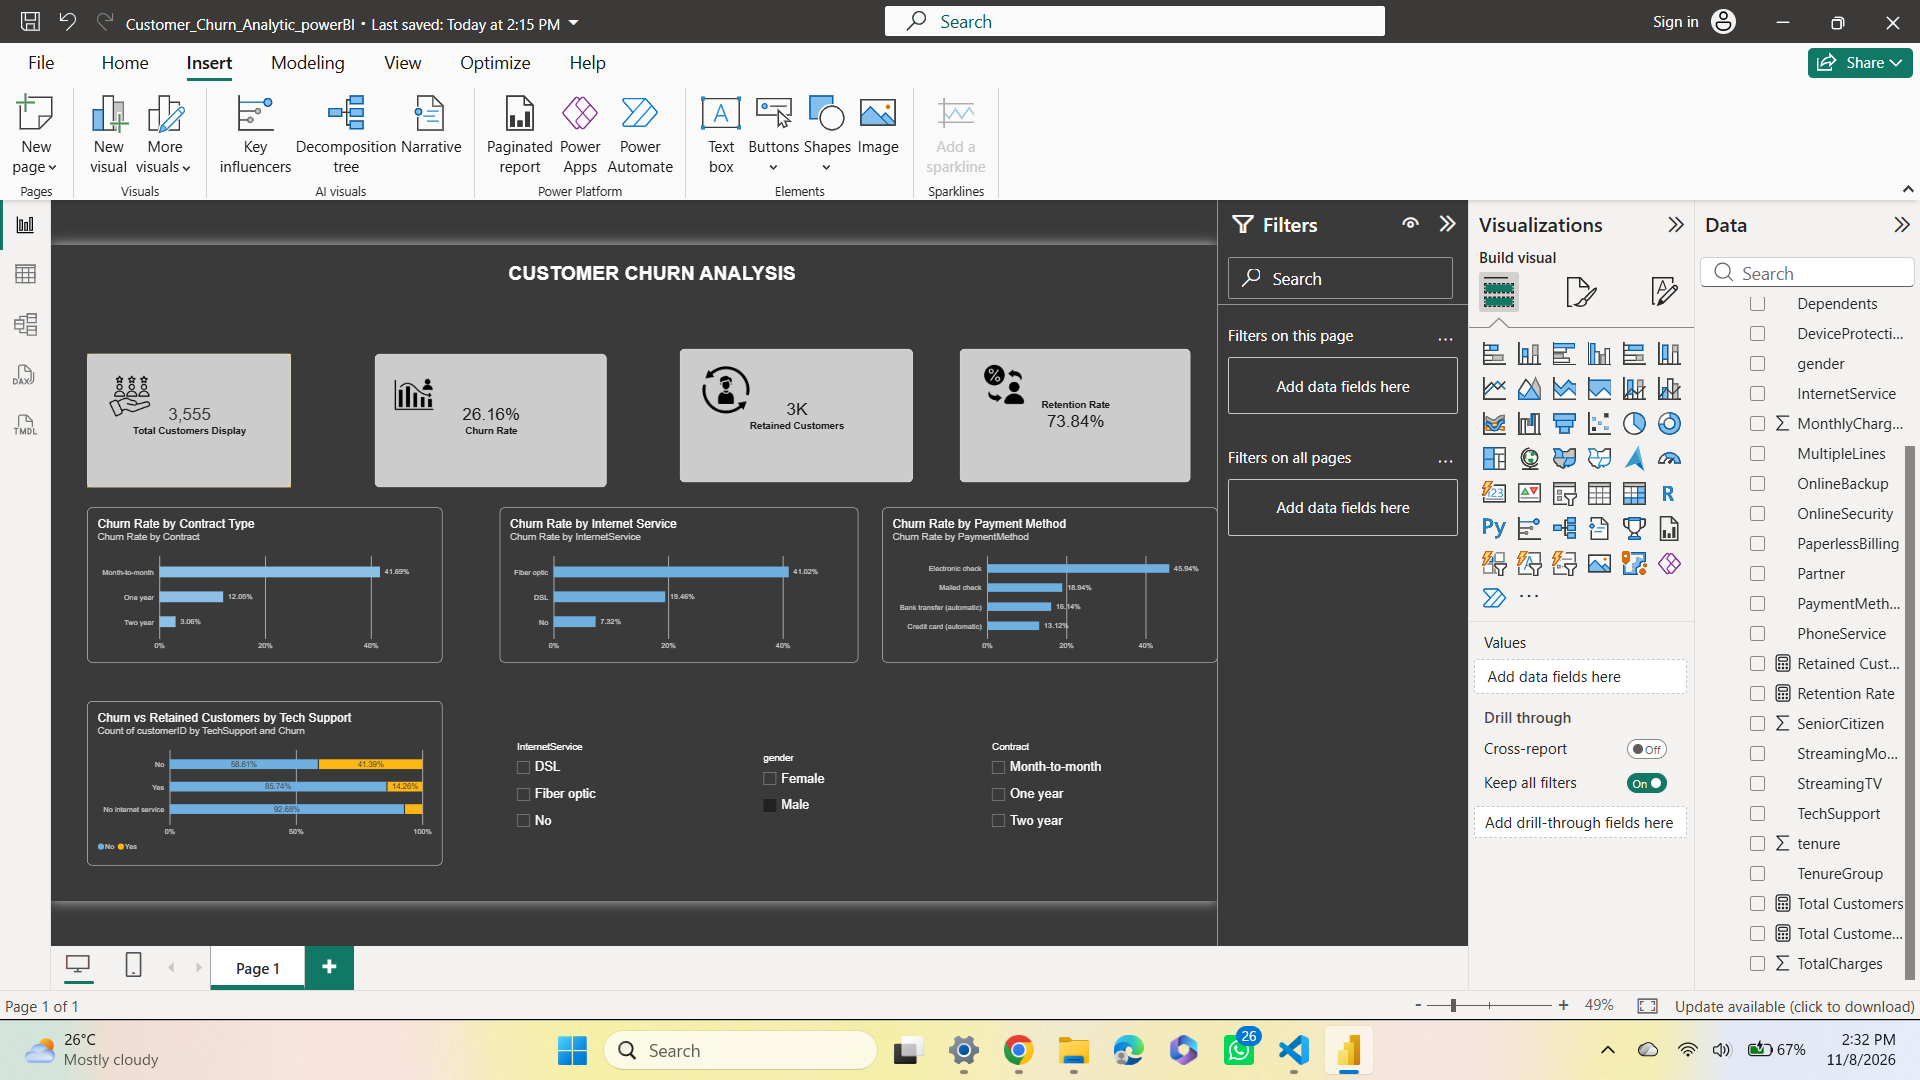

The page's visual inventory and layout, read from the dashboard file:
{"tool":"powerbi","page":{"name":"Page 1","canvas":[1920,1080],"ordinal":0},"visuals":[{"type":"cardVisual","fields":{"Data":["customer_churn_cleaned.Total Customers Display"]},"box":[59.7,179.1,335.5,220.2],"z":0},{"type":"cardVisual","fields":{"Data":["customer_churn_cleaned.Churn Rate"]},"box":[533.1,179.1,382.8,220.2],"z":1000},{"type":"image","box":[533.1,214.1,129.7,63.8],"z":2000},{"type":"cardVisual","fields":{"Data":["customer_churn_cleaned.Retained Customers"]},"box":[1035.3,170.8,384.9,220.2],"z":3000},{"type":"cardVisual","fields":{"Data":["customer_churn_cleaned.Retention Rate"]},"box":[1496.4,170.8,380.8,220.2],"z":4000},{"type":"image","box":[1510.8,195.5,117.3,67.9],"z":5000},{"type":"clusteredBarChart","title":"Churn Rate by Contract Type","fields":{"Category":["customer_churn_cleaned.Contract"],"Y":["customer_churn_cleaned.Churn Rate"]},"box":[59.7,432.2,584.6,255.2],"z":6000},{"type":"clusteredBarChart","title":"Churn Rate by Internet Service","fields":{"Category":["customer_churn_cleaned.InternetService"],"Y":["customer_churn_cleaned.Churn Rate"]},"box":[738.9,432.2,590.7,255.2],"z":7000},{"type":"clusteredBarChart","title":"Churn Rate by Payment Method","fields":{"Category":["customer_churn_cleaned.PaymentMethod"],"Y":["customer_churn_cleaned.Churn Rate"]},"box":[1368.8,432.2,551.6,255.2],"z":8000},{"type":"hundredPercentStackedBarChart","title":"Churn vs Retained Customers by Tech Support","fields":{"Category":["customer_churn_cleaned.TechSupport"],"Series":["customer_churn_cleaned.Churn"],"Y":["CountNonNull(customer_churn_cleaned.customerID)"]},"box":[59.7,751.3,585,270],"z":9000},{"type":"slicer","fields":{"Values":["customer_churn_cleaned.Contract"]},"box":[1541.7,817.2,290.2,172.9],"z":10000},{"type":"slicer","fields":{"Values":["customer_churn_cleaned.InternetService"]},"box":[759.5,817.2,275.8,203.8],"z":11000},{"type":"slicer","fields":{"Values":["customer_churn_cleaned.gender"]},"box":[1165,835.7,255.2,131.7],"z":12000},{"type":"textbox","box":[59.7,28.8,1860.7,80.3],"z":13000},{"type":"image","box":[59.7,214.1,140,70],"z":14000},{"type":"image","box":[1053.9,195.5,115.3,86.4],"z":15000}]}

Visuals, with their boxes on the page's 1920x1080 design canvas (x1, y1, x2, y2). These are canvas units, not pixel positions in the 1920x1080 screenshot, which may show the page scaled, cropped or inside an application window:
cardVisual - customer_churn_cleaned.Total Customers Display: x1=60, y1=179, x2=395, y2=399
cardVisual - customer_churn_cleaned.Churn Rate: x1=533, y1=179, x2=916, y2=399
image: x1=533, y1=214, x2=663, y2=278
cardVisual - customer_churn_cleaned.Retained Customers: x1=1035, y1=171, x2=1420, y2=391
cardVisual - customer_churn_cleaned.Retention Rate: x1=1496, y1=171, x2=1877, y2=391
image: x1=1511, y1=196, x2=1628, y2=263
"Churn Rate by Contract Type" clusteredBarChart: x1=60, y1=432, x2=644, y2=687
"Churn Rate by Internet Service" clusteredBarChart: x1=739, y1=432, x2=1330, y2=687
"Churn Rate by Payment Method" clusteredBarChart: x1=1369, y1=432, x2=1920, y2=687
"Churn vs Retained Customers by Tech Support" hundredPercentStackedBarChart: x1=60, y1=751, x2=645, y2=1021
slicer - customer_churn_cleaned.Contract: x1=1542, y1=817, x2=1832, y2=990
slicer - customer_churn_cleaned.InternetService: x1=760, y1=817, x2=1035, y2=1021
slicer - customer_churn_cleaned.gender: x1=1165, y1=836, x2=1420, y2=967
textbox: x1=60, y1=29, x2=1920, y2=109
image: x1=60, y1=214, x2=200, y2=284
image: x1=1054, y1=196, x2=1169, y2=282
